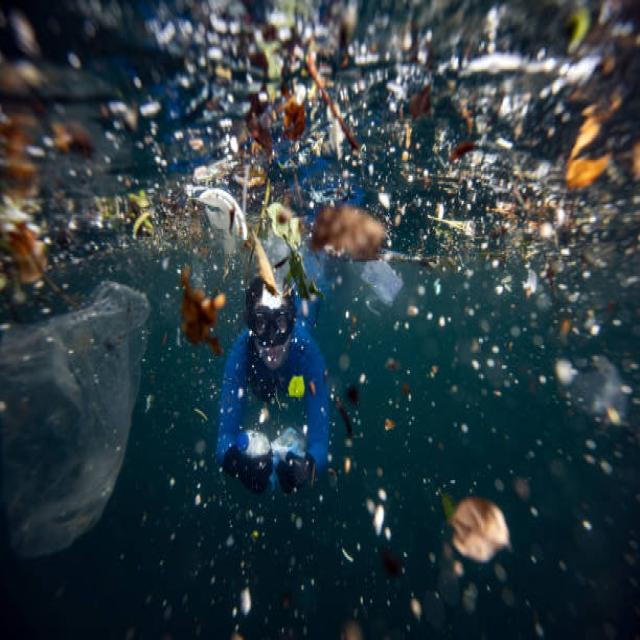trash: (121, 27, 604, 312)
